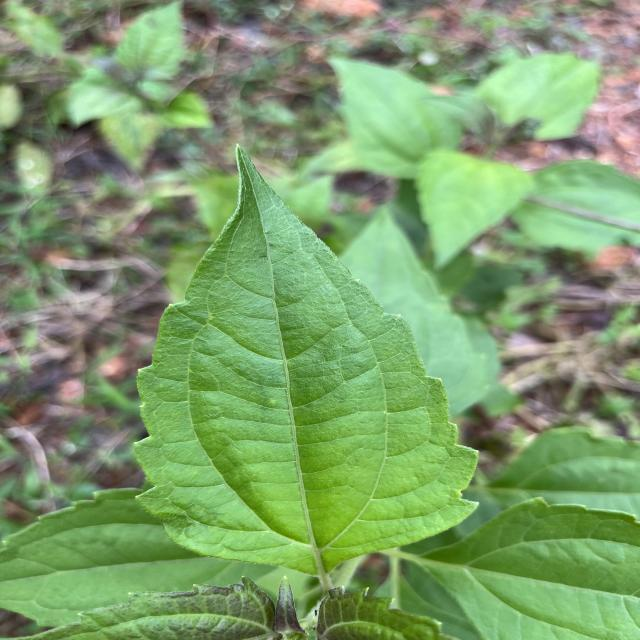Chromolaena odorata: (127, 137, 487, 578)
